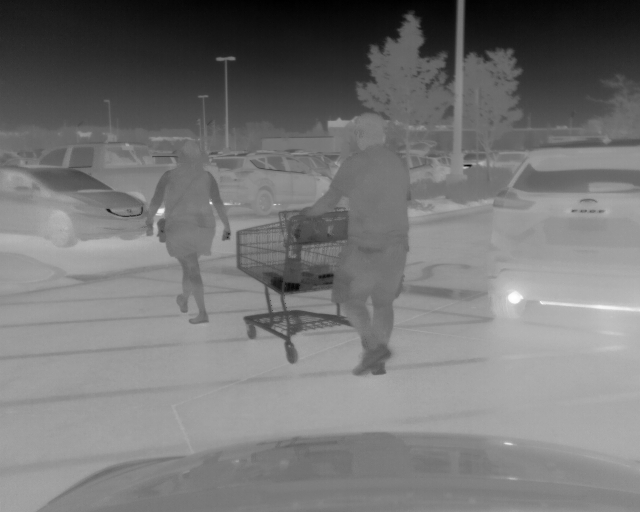car: (487, 140, 640, 322), (2, 165, 150, 247), (34, 140, 181, 205), (209, 150, 334, 214), (403, 153, 453, 189), (462, 148, 524, 174), (296, 151, 340, 179)
people: (301, 114, 408, 376), (144, 140, 230, 326)
